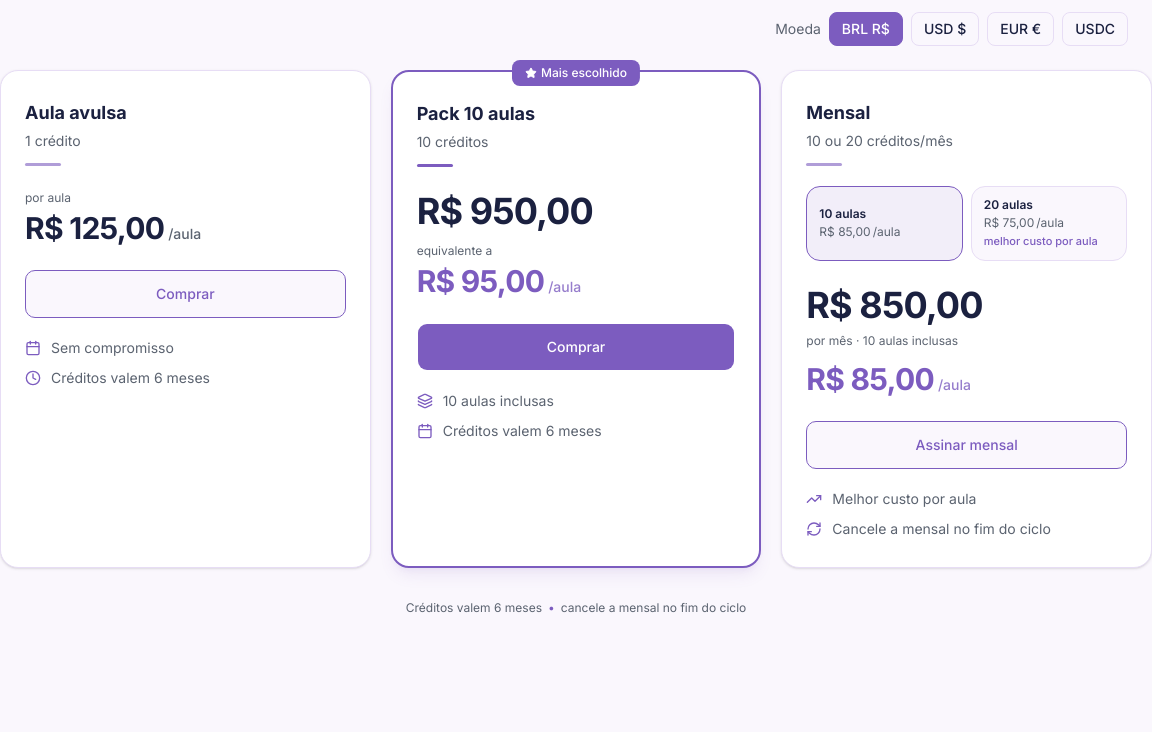
it: PricingCards › troca o volume mensal para 20 aulas e repreca o plano
What coordinates should you click on to do the following:
click the radio button with test id "credits-monthly-option-20"
I would click on:
 (1049, 223)
Its box is [971,186,1127,260].
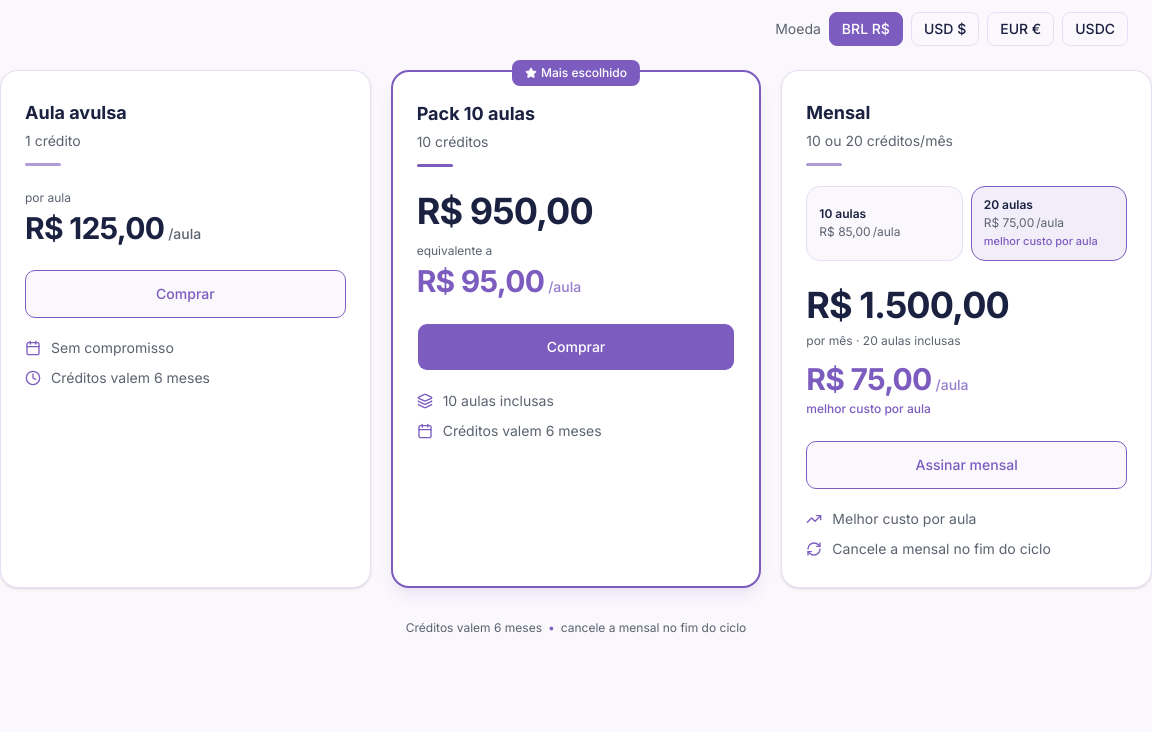
Expected: the text "R$ 1.500,00" is shown, [806,282,1009,326]
Expected: the text "R$ 850,00" is gone
Expected: the text "por mês · 20 aulas inclusas" is shown, [806,332,960,348]
